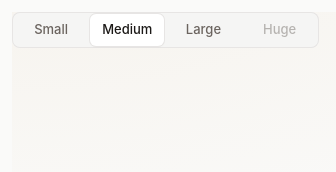
Scenario: SegmentedControl › a click chooses
Click the radio button labelled "Large". click: (204, 30)
box: 166,14 -> 241,46
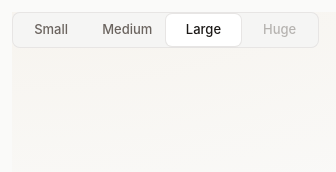
Expected: the radio button labelled "Large" is checked, 166,14 -> 241,46
Expected: the radio button labelled "Medium" is not checked, 90,14 -> 164,46
